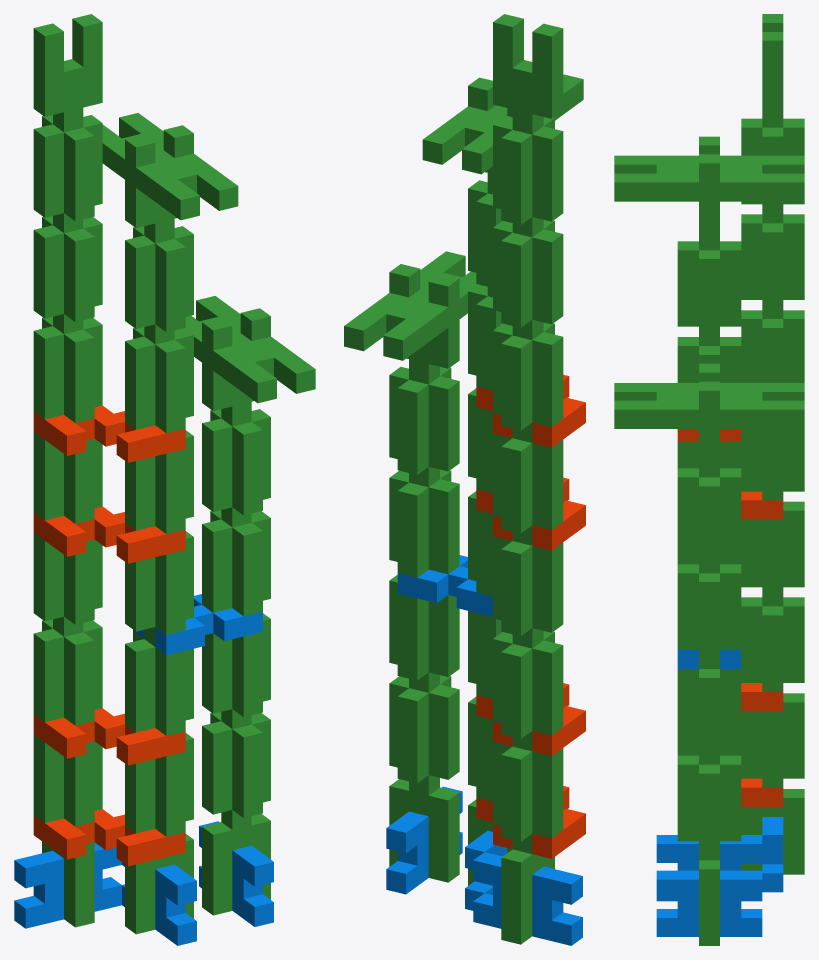
3 views of the same model, side by side, from view 1: azimuth 30°, elevation 25°; view 2: azimuth 150°, elevation 25°; view 3: azimuth 270°, elevation 25° (orthographic). The views are drawn at different scales.
Visible parts, largest first — view 1: H_SIM (×22), L_SIM (×4), X_SIM (×4); view 2: H_SIM (×22), X_SIM (×4), L_SIM (×4); view 3: H_SIM (×19), X_SIM (×4), L_SIM (×4).
Boxes of the visible parts, x1,y1,x2,y2 form: H_SIM (×22): (33, 14, 315, 934); L_SIM (×4): (33, 405, 185, 866); X_SIM (×4): (14, 594, 273, 945); H_SIM (×22): (344, 14, 583, 944); X_SIM (×4): (386, 555, 582, 945); L_SIM (×4): (476, 375, 585, 858); H_SIM (×19): (614, 14, 804, 945); X_SIM (×4): (656, 649, 783, 936); L_SIM (×4): (677, 429, 783, 806).
Bounding box in the file's own units: 1.43 × 5.72 × 1.17.
